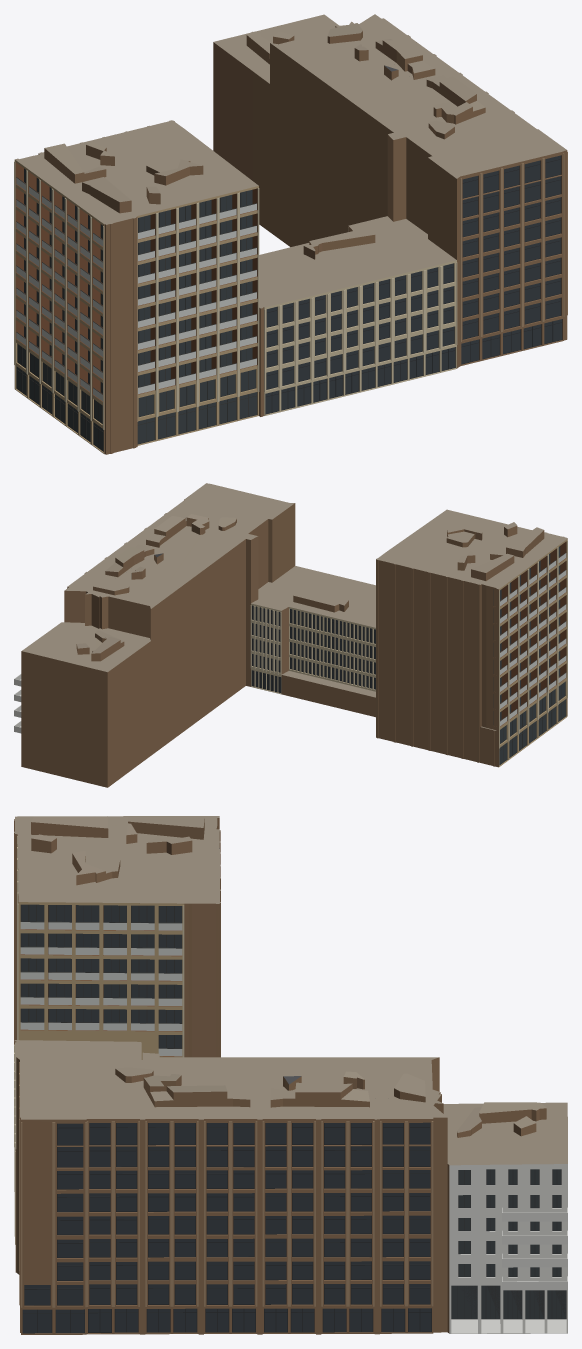
File: recipe-large-vlaardingenlaan-158-440-253645.glb
The picture shows the model from 3 angles, top to bottom: view 1: azimuth 30°, elevation 25°; view 2: azimuth 150°, elevation 25°; view 3: azimuth 270°, elevation 25°; orthographic projection. The views are drawn at different scales.
Visible parts, largest first — view 1: vlaardingenlaan-158-440-253645; view 2: vlaardingenlaan-158-440-253645; view 3: vlaardingenlaan-158-440-253645.
Boxes of the visible parts, x1,y1,x2,y2 form: vlaardingenlaan-158-440-253645: (14, 14, 567, 454); vlaardingenlaan-158-440-253645: (14, 483, 567, 787); vlaardingenlaan-158-440-253645: (14, 816, 567, 1334).
Size of the model in its own units: 73.12 by 35.58 by 65.23.
